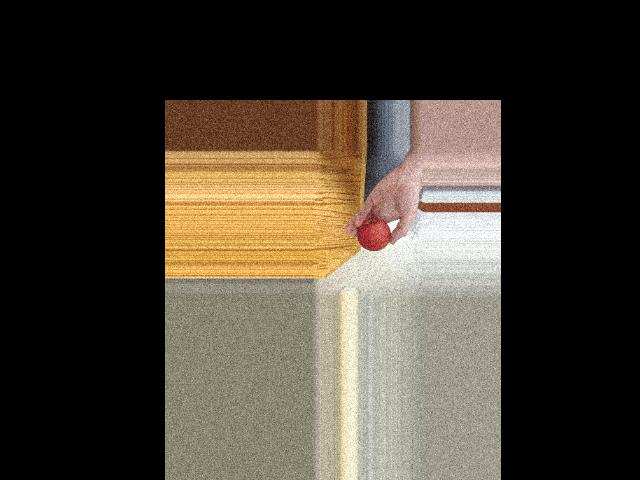apple: (357, 216, 396, 251)
